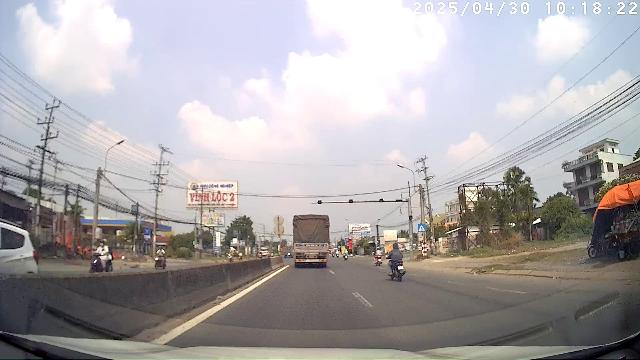423a-duong-nguoi-di-bo-sang-ngang-1: (418, 224, 426, 232)
